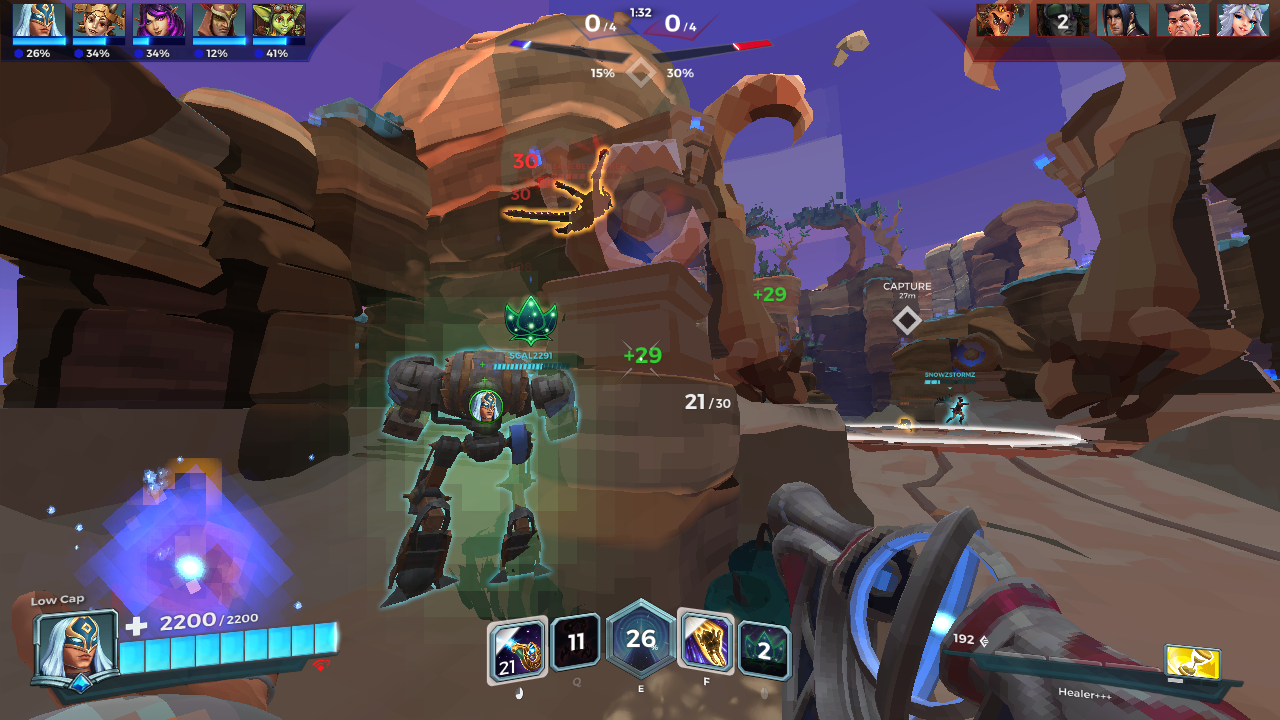model: (505, 148, 615, 235)
